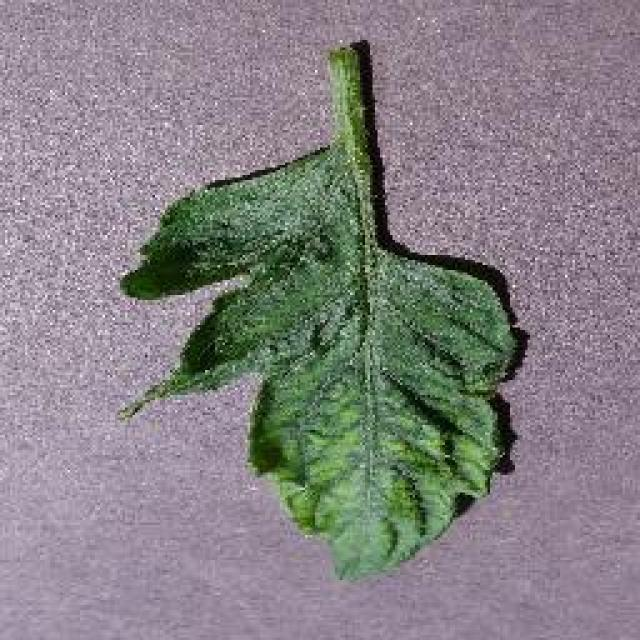Tomato spider mites leaf: (121, 158, 521, 578)
